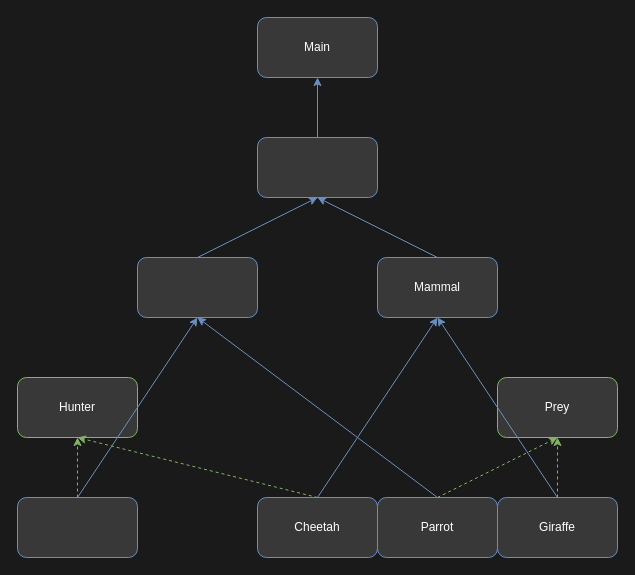
The diagram is 635 pixels wide and 575 high, and some of its shapes have lost their labels. Here are the shapes that lost their labels. From the top down, the centre of each, then its label:
(x=317, y=167): Animal
(x=197, y=287): Bird
(x=77, y=527): Eagle
